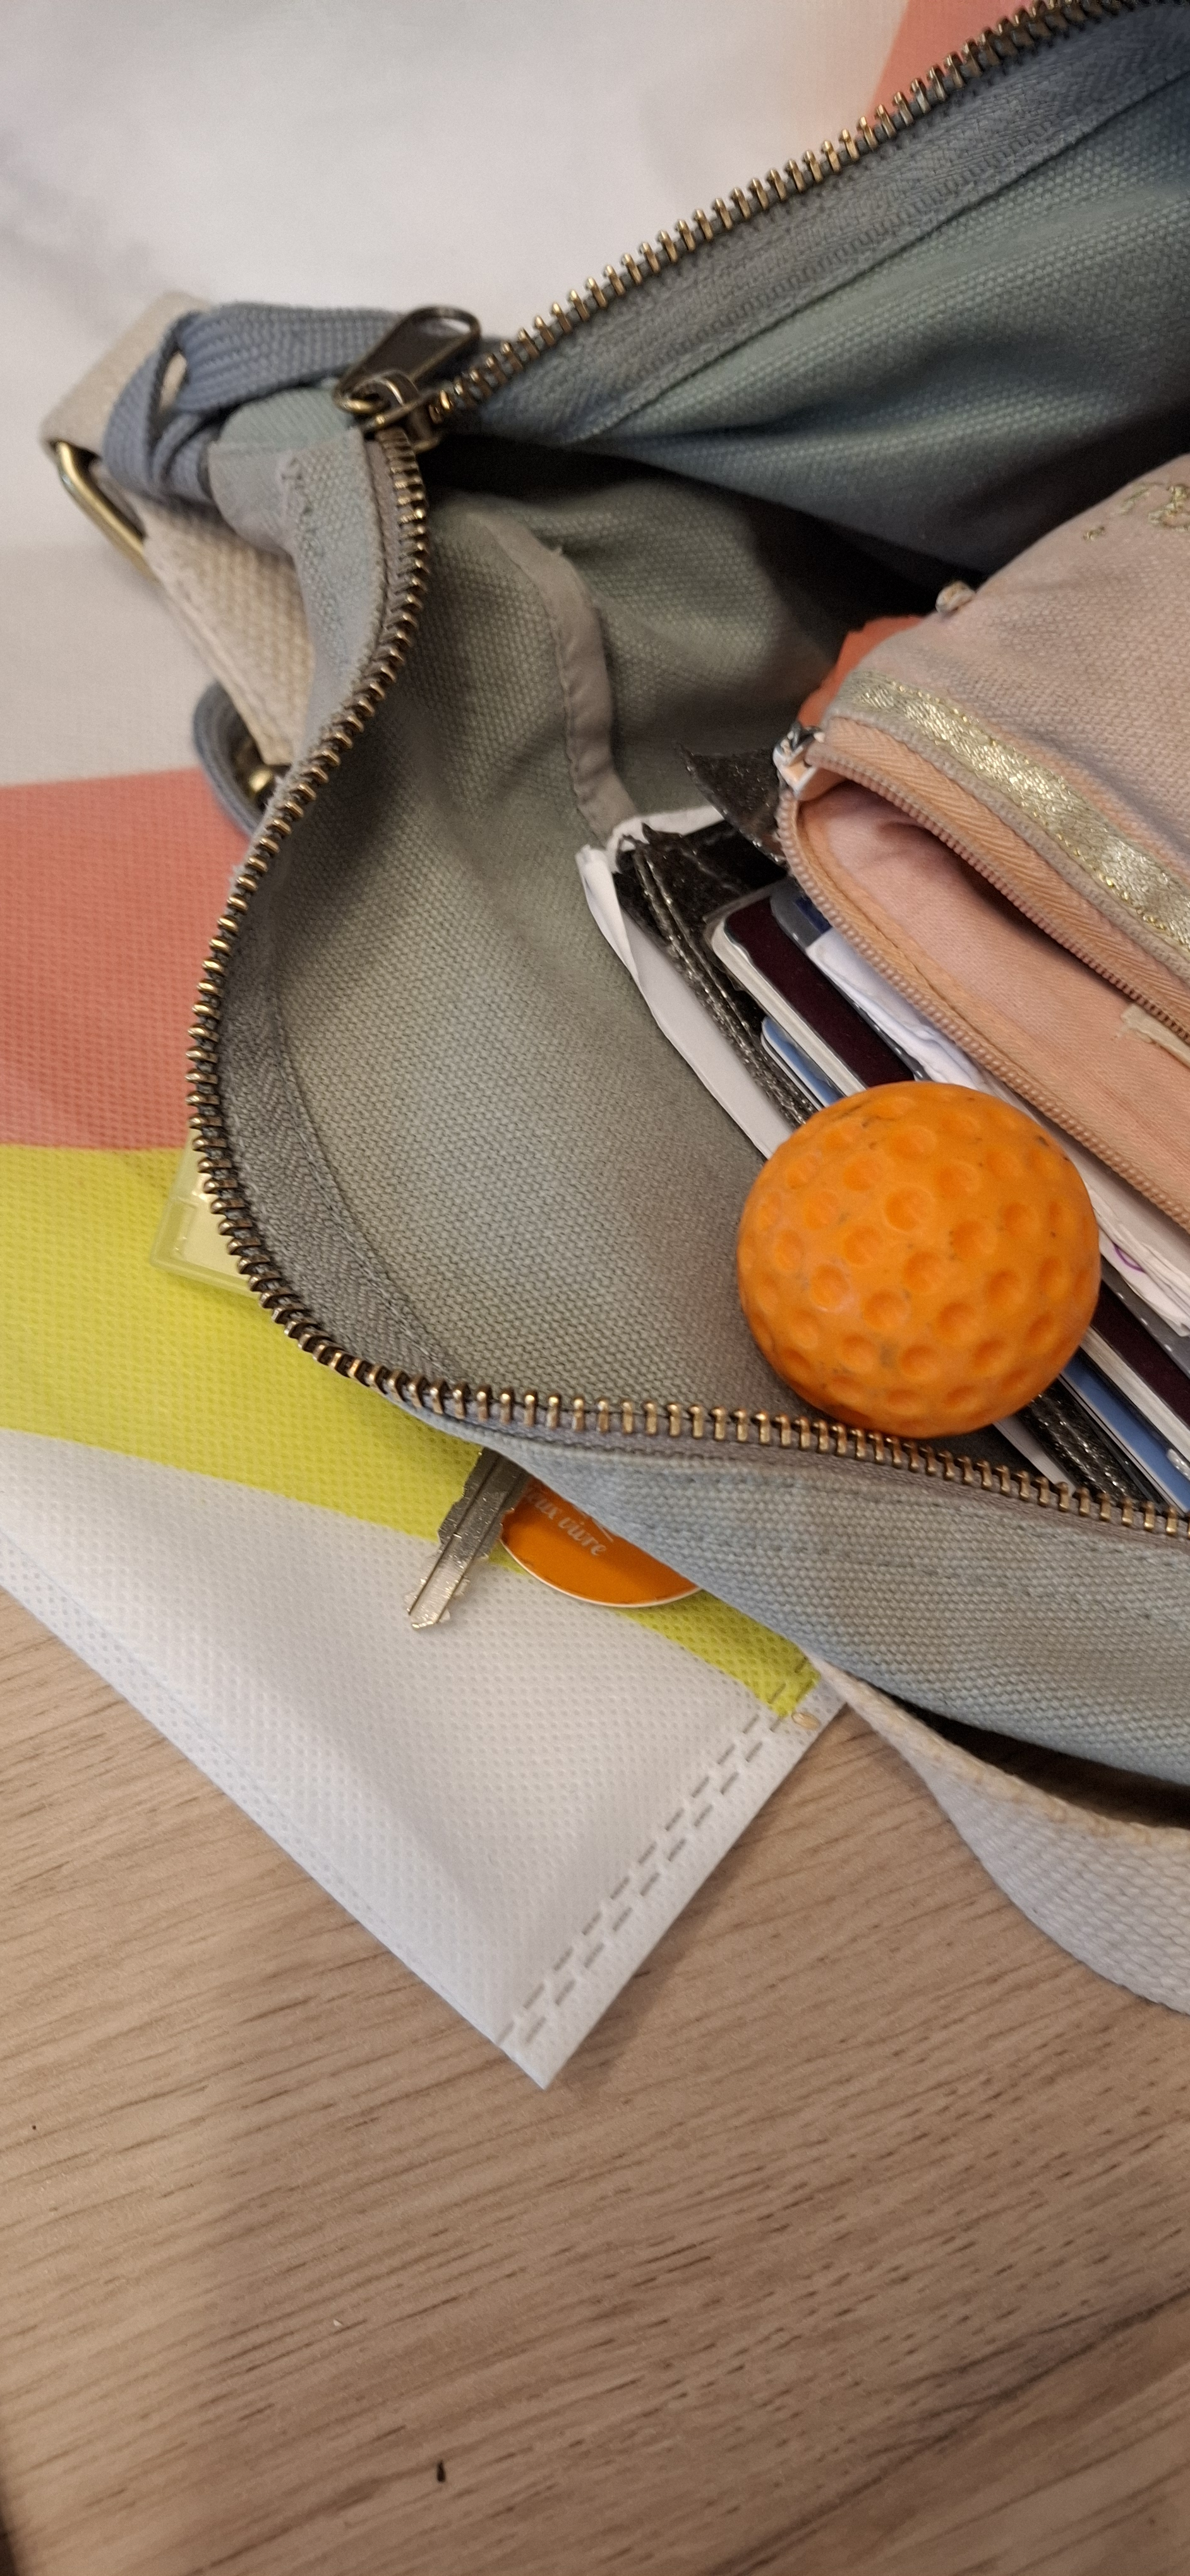ball: (493, 197, 666, 977)
